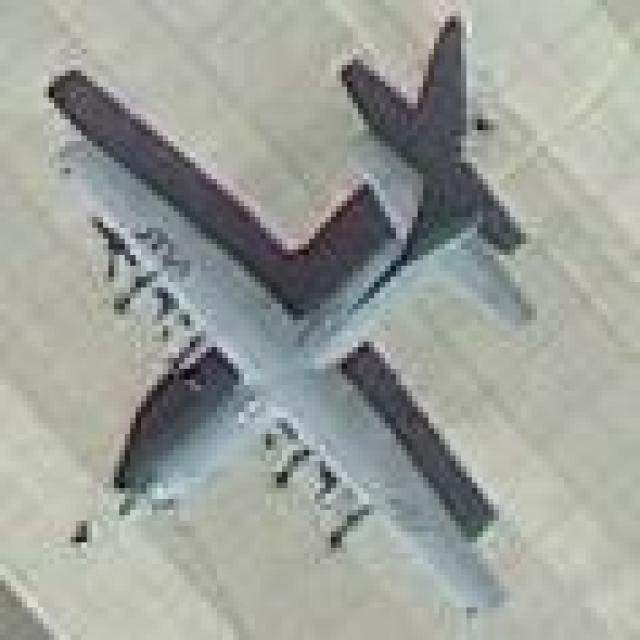C-130_TopDown: (36, 13, 544, 621)
